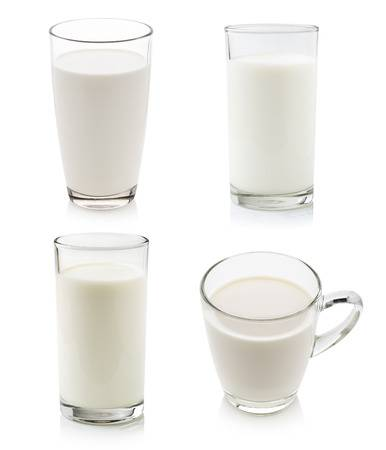glass of milk: (198, 251, 357, 421), (48, 230, 151, 426), (226, 23, 322, 215), (48, 28, 145, 200)
